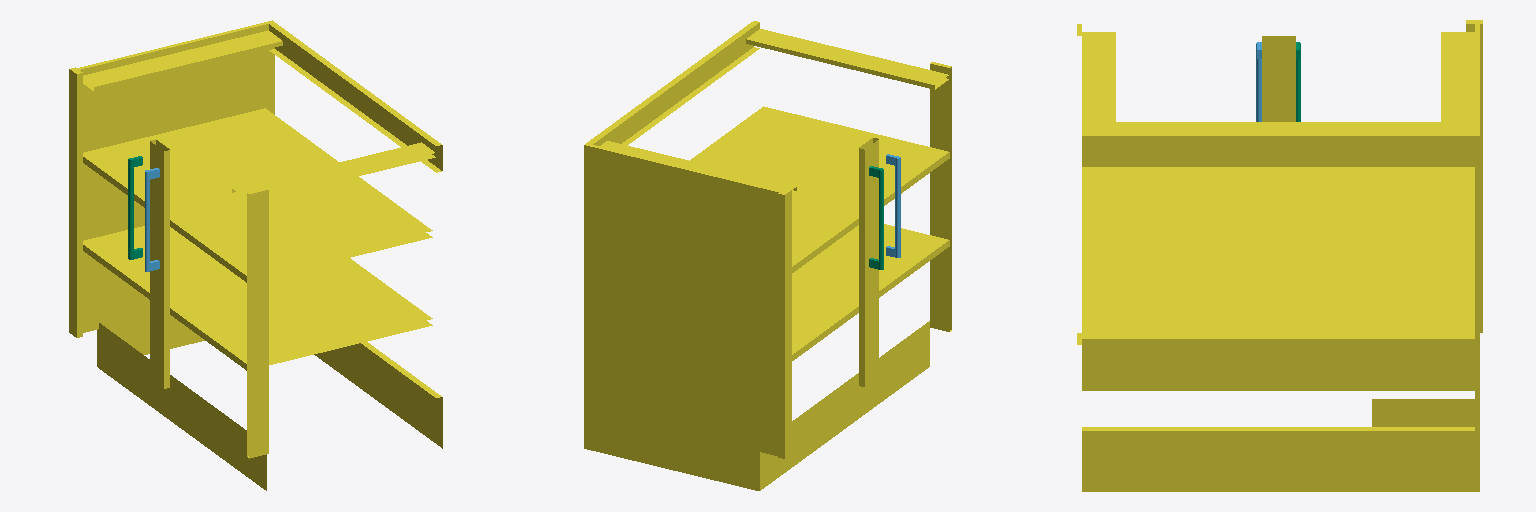
robot.urdf — partnet_23aeb8fdc0d1ed4c4da5feafe6f1c8fc:
<?xml version="1.0" ?>
<robot name="partnet_23aeb8fdc0d1ed4c4da5feafe6f1c8fc">
	<link name="base"/>
	<link name="link_0">
		<visual name="cabinet_door_surface-10">
			<origin xyz="-0.6312006468037903 -0.6197400093078613 -0.44144099978298945"/>
			<geometry>
				<mesh filename="package://objects_description/45463/textured_objs/original-35.obj"/>
			</geometry>
		</visual>
		<visual name="handle-11">
			<origin xyz="-0.6312006468037903 -0.6197400093078613 -0.44144099978298945"/>
			<geometry>
				<mesh filename="package://objects_description/45463/textured_objs/original-32.obj"/>
			</geometry>
		</visual>
		<visual name="handle-11">
			<origin xyz="-0.6312006468037903 -0.6197400093078613 -0.44144099978298945"/>
			<geometry>
				<mesh filename="package://objects_description/45463/textured_objs/original-33.obj"/>
			</geometry>
		</visual>
		<visual name="handle-11">
			<origin xyz="-0.6312006468037903 -0.6197400093078613 -0.44144099978298945"/>
			<geometry>
				<mesh filename="package://objects_description/45463/textured_objs/original-34.obj"/>
			</geometry>
		</visual>
		<collision>
			<origin xyz="-0.6312006468037903 -0.6197400093078613 -0.44144099978298945"/>
			<geometry>
				<mesh filename="package://objects_description/45463/textured_objs/original-35.obj"/>
			</geometry>
		</collision>
		<collision>
			<origin xyz="-0.6312006468037903 -0.6197400093078613 -0.44144099978298945"/>
			<geometry>
				<mesh filename="package://objects_description/45463/textured_objs/original-32.obj"/>
			</geometry>
		</collision>
		<collision>
			<origin xyz="-0.6312006468037903 -0.6197400093078613 -0.44144099978298945"/>
			<geometry>
				<mesh filename="package://objects_description/45463/textured_objs/original-33.obj"/>
			</geometry>
		</collision>
		<collision>
			<origin xyz="-0.6312006468037903 -0.6197400093078613 -0.44144099978298945"/>
			<geometry>
				<mesh filename="package://objects_description/45463/textured_objs/original-34.obj"/>
			</geometry>
		</collision>
	</link>
	<joint name="joint_0" type="revolute">
		<origin xyz="0.6312006468037903 0.6197400093078613 0.44144099978298945"/>
		<axis xyz="0 1 0"/>
		<child link="link_0"/>
		<parent link="link_2"/>
		<limit lower="0.0" upper="1.6713272917097701"/>
	</joint>
	<link name="link_1">
		<visual name="cabinet_door_surface-8">
			<origin xyz="0.6567929858354381 0.46972298622131325 -0.43827930275944454"/>
			<geometry>
				<mesh filename="package://objects_description/45463/textured_objs/original-29.obj"/>
			</geometry>
		</visual>
		<visual name="handle-9">
			<origin xyz="0.6567929858354381 0.46972298622131325 -0.43827930275944454"/>
			<geometry>
				<mesh filename="package://objects_description/45463/textured_objs/original-26.obj"/>
			</geometry>
		</visual>
		<visual name="handle-9">
			<origin xyz="0.6567929858354381 0.46972298622131325 -0.43827930275944454"/>
			<geometry>
				<mesh filename="package://objects_description/45463/textured_objs/original-27.obj"/>
			</geometry>
		</visual>
		<visual name="handle-9">
			<origin xyz="0.6567929858354381 0.46972298622131325 -0.43827930275944454"/>
			<geometry>
				<mesh filename="package://objects_description/45463/textured_objs/original-28.obj"/>
			</geometry>
		</visual>
		<collision>
			<origin xyz="0.6567929858354381 0.46972298622131325 -0.43827930275944454"/>
			<geometry>
				<mesh filename="package://objects_description/45463/textured_objs/original-29.obj"/>
			</geometry>
		</collision>
		<collision>
			<origin xyz="0.6567929858354381 0.46972298622131325 -0.43827930275944454"/>
			<geometry>
				<mesh filename="package://objects_description/45463/textured_objs/original-26.obj"/>
			</geometry>
		</collision>
		<collision>
			<origin xyz="0.6567929858354381 0.46972298622131325 -0.43827930275944454"/>
			<geometry>
				<mesh filename="package://objects_description/45463/textured_objs/original-27.obj"/>
			</geometry>
		</collision>
		<collision>
			<origin xyz="0.6567929858354381 0.46972298622131325 -0.43827930275944454"/>
			<geometry>
				<mesh filename="package://objects_description/45463/textured_objs/original-28.obj"/>
			</geometry>
		</collision>
	</link>
	<joint name="joint_1" type="revolute">
		<origin xyz="-0.6567929858354381 -0.46972298622131325 0.43827930275944454"/>
		<axis xyz="0 -1 0"/>
		<child link="link_1"/>
		<parent link="link_2"/>
		<limit lower="0.0" upper="1.6713272917097701"/>
	</joint>
	<link name="link_2">
		<visual name="shelf-4">
			<origin xyz="0 0 0"/>
			<geometry>
				<mesh filename="package://objects_description/45463/textured_objs/original-23.obj"/>
			</geometry>
		</visual>
		<visual name="shelf-5">
			<origin xyz="0 0 0"/>
			<geometry>
				<mesh filename="package://objects_description/45463/textured_objs/original-2.obj"/>
			</geometry>
		</visual>
		<visual name="vertical_side_panel-17">
			<origin xyz="0 0 0"/>
			<geometry>
				<mesh filename="package://objects_description/45463/textured_objs/original-16.obj"/>
			</geometry>
		</visual>
		<visual name="vertical_side_panel-17">
			<origin xyz="0 0 0"/>
			<geometry>
				<mesh filename="package://objects_description/45463/textured_objs/original-15.obj"/>
			</geometry>
		</visual>
		<visual name="vertical_side_panel-18">
			<origin xyz="0 0 0"/>
			<geometry>
				<mesh filename="package://objects_description/45463/textured_objs/original-12.obj"/>
			</geometry>
		</visual>
		<visual name="vertical_side_panel-18">
			<origin xyz="0 0 0"/>
			<geometry>
				<mesh filename="package://objects_description/45463/textured_objs/original-11.obj"/>
			</geometry>
		</visual>
		<visual name="back_panel-19">
			<origin xyz="0 0 0"/>
			<geometry>
				<mesh filename="package://objects_description/45463/textured_objs/original-6.obj"/>
			</geometry>
		</visual>
		<visual name="back_panel-19">
			<origin xyz="0 0 0"/>
			<geometry>
				<mesh filename="package://objects_description/45463/textured_objs/original-5.obj"/>
			</geometry>
		</visual>
		<visual name="bottom_panel-20">
			<origin xyz="0 0 0"/>
			<geometry>
				<mesh filename="package://objects_description/45463/textured_objs/original-3.obj"/>
			</geometry>
		</visual>
		<visual name="frame_vertical_bar-21">
			<origin xyz="0 0 0"/>
			<geometry>
				<mesh filename="package://objects_description/45463/textured_objs/original-4.obj"/>
			</geometry>
		</visual>
		<visual name="frame_vertical_bar-22">
			<origin xyz="0 0 0"/>
			<geometry>
				<mesh filename="package://objects_description/45463/textured_objs/original-18.obj"/>
			</geometry>
		</visual>
		<visual name="frame_vertical_bar-23">
			<origin xyz="0 0 0"/>
			<geometry>
				<mesh filename="package://objects_description/45463/textured_objs/original-8.obj"/>
			</geometry>
		</visual>
		<visual name="frame_horizontal_bar-24">
			<origin xyz="0 0 0"/>
			<geometry>
				<mesh filename="package://objects_description/45463/textured_objs/original-22.obj"/>
			</geometry>
		</visual>
		<visual name="frame_horizontal_bar-25">
			<origin xyz="0 0 0"/>
			<geometry>
				<mesh filename="package://objects_description/45463/textured_objs/original-21.obj"/>
			</geometry>
		</visual>
		<visual name="frame_horizontal_bar-26">
			<origin xyz="0 0 0"/>
			<geometry>
				<mesh filename="package://objects_description/45463/textured_objs/original-9.obj"/>
			</geometry>
		</visual>
		<visual name="frame_horizontal_bar-27">
			<origin xyz="0 0 0"/>
			<geometry>
				<mesh filename="package://objects_description/45463/textured_objs/original-7.obj"/>
			</geometry>
		</visual>
		<visual name="other_leaf-29">
			<origin xyz="0 0 0"/>
			<geometry>
				<mesh filename="package://objects_description/45463/textured_objs/original-36.obj"/>
			</geometry>
		</visual>
		<visual name="base_side_panel-13">
			<origin xyz="0 0 0"/>
			<geometry>
				<mesh filename="package://objects_description/45463/textured_objs/original-13.obj"/>
			</geometry>
		</visual>
		<visual name="base_side_panel-14">
			<origin xyz="0 0 0"/>
			<geometry>
				<mesh filename="package://objects_description/45463/textured_objs/original-19.obj"/>
			</geometry>
		</visual>
		<visual name="base_side_panel-15">
			<origin xyz="0 0 0"/>
			<geometry>
				<mesh filename="package://objects_description/45463/textured_objs/original-17.obj"/>
			</geometry>
		</visual>
		<visual name="base_side_panel-16">
			<origin xyz="0 0 0"/>
			<geometry>
				<mesh filename="package://objects_description/45463/textured_objs/original-20.obj"/>
			</geometry>
		</visual>
		<collision>
			<origin xyz="0 0 0"/>
			<geometry>
				<mesh filename="package://objects_description/45463/textured_objs/original-23.obj"/>
			</geometry>
		</collision>
		<collision>
			<origin xyz="0 0 0"/>
			<geometry>
				<mesh filename="package://objects_description/45463/textured_objs/original-2.obj"/>
			</geometry>
		</collision>
		<collision>
			<origin xyz="0 0 0"/>
			<geometry>
				<mesh filename="package://objects_description/45463/textured_objs/original-16.obj"/>
			</geometry>
		</collision>
		<collision>
			<origin xyz="0 0 0"/>
			<geometry>
				<mesh filename="package://objects_description/45463/textured_objs/original-15.obj"/>
			</geometry>
		</collision>
		<collision>
			<origin xyz="0 0 0"/>
			<geometry>
				<mesh filename="package://objects_description/45463/textured_objs/original-12.obj"/>
			</geometry>
		</collision>
		<collision>
			<origin xyz="0 0 0"/>
			<geometry>
				<mesh filename="package://objects_description/45463/textured_objs/original-11.obj"/>
			</geometry>
		</collision>
		<collision>
			<origin xyz="0 0 0"/>
			<geometry>
				<mesh filename="package://objects_description/45463/textured_objs/original-6.obj"/>
			</geometry>
		</collision>
		<collision>
			<origin xyz="0 0 0"/>
			<geometry>
				<mesh filename="package://objects_description/45463/textured_objs/original-5.obj"/>
			</geometry>
		</collision>
		<collision>
			<origin xyz="0 0 0"/>
			<geometry>
				<mesh filename="package://objects_description/45463/textured_objs/original-3.obj"/>
			</geometry>
		</collision>
		<collision>
			<origin xyz="0 0 0"/>
			<geometry>
				<mesh filename="package://objects_description/45463/textured_objs/original-4.obj"/>
			</geometry>
		</collision>
		<collision>
			<origin xyz="0 0 0"/>
			<geometry>
				<mesh filename="package://objects_description/45463/textured_objs/original-18.obj"/>
			</geometry>
		</collision>
		<collision>
			<origin xyz="0 0 0"/>
			<geometry>
				<mesh filename="package://objects_description/45463/textured_objs/original-8.obj"/>
			</geometry>
		</collision>
		<collision>
			<origin xyz="0 0 0"/>
			<geometry>
				<mesh filename="package://objects_description/45463/textured_objs/original-22.obj"/>
			</geometry>
		</collision>
		<collision>
			<origin xyz="0 0 0"/>
			<geometry>
				<mesh filename="package://objects_description/45463/textured_objs/original-21.obj"/>
			</geometry>
		</collision>
		<collision>
			<origin xyz="0 0 0"/>
			<geometry>
				<mesh filename="package://objects_description/45463/textured_objs/original-9.obj"/>
			</geometry>
		</collision>
		<collision>
			<origin xyz="0 0 0"/>
			<geometry>
				<mesh filename="package://objects_description/45463/textured_objs/original-7.obj"/>
			</geometry>
		</collision>
		<collision>
			<origin xyz="0 0 0"/>
			<geometry>
				<mesh filename="package://objects_description/45463/textured_objs/original-36.obj"/>
			</geometry>
		</collision>
		<collision>
			<origin xyz="0 0 0"/>
			<geometry>
				<mesh filename="package://objects_description/45463/textured_objs/original-13.obj"/>
			</geometry>
		</collision>
		<collision>
			<origin xyz="0 0 0"/>
			<geometry>
				<mesh filename="package://objects_description/45463/textured_objs/original-19.obj"/>
			</geometry>
		</collision>
		<collision>
			<origin xyz="0 0 0"/>
			<geometry>
				<mesh filename="package://objects_description/45463/textured_objs/original-17.obj"/>
			</geometry>
		</collision>
		<collision>
			<origin xyz="0 0 0"/>
			<geometry>
				<mesh filename="package://objects_description/45463/textured_objs/original-20.obj"/>
			</geometry>
		</collision>
	</link>
	<joint name="joint_2" type="fixed">
		<origin rpy="1.570796326794897 0 -1.570796326794897" xyz="0 0 0"/>
		<child link="link_2"/>
		<parent link="base"/>
	</joint>
</robot>

--- Facts derived from the render (not from the file) ---
The picture shows the robot from 3 angles, left to right: view 1: azimuth 30°, elevation 25°; view 2: azimuth 150°, elevation 25°; view 3: azimuth 270°, elevation 25°; orthographic projection.
Robot: partnet_23aeb8fdc0d1ed4c4da5feafe6f1c8fc — 4 links, 3 joints (2 revolute, 1 fixed); root link base; default pose: all joints at 0.
Visible links, largest first — view 1: link_2, link_1, link_0; view 2: link_2, link_0, link_1; view 3: link_2.
Boxes of the visible links, x1,y1,x2,y2 form: link_2: (69, 20, 442, 490); link_1: (128, 156, 142, 259); link_0: (145, 168, 159, 271); link_2: (584, 21, 951, 490); link_0: (886, 154, 900, 257); link_1: (869, 166, 883, 269); link_2: (1077, 20, 1482, 491).
Size in the robot's own frame: 0.9996 by 1.35 by 1.31 metres.
20 mesh visuals loaded from 29 distinct referenced files (20 OBJ); not drawn: 9 (reference not matched to a file when rendering).